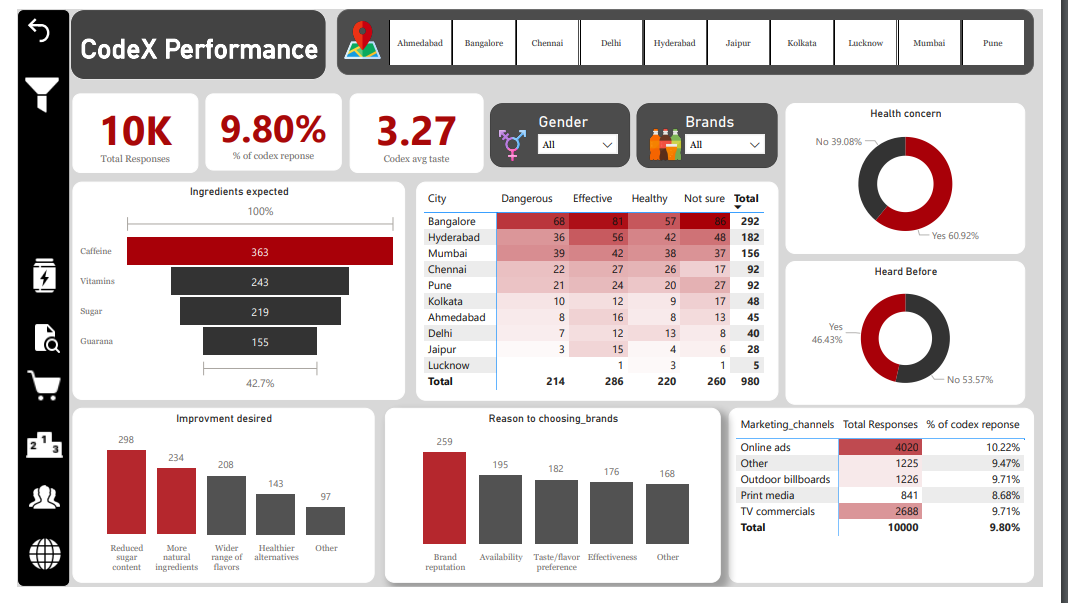

The dashboard page shown, as its layout file describes it:
{"tool":"powerbi","page":{"name":"Codex performance","canvas":[1280,720],"ordinal":1},"visuals":[{"type":"shape","box":[0,0,65.5,720.1],"z":0,"group":"g4"},{"type":"shape","box":[66.4,0,320,87.7],"z":0,"group":"g3"},{"type":"shape","box":[398.8,0,870.1,82.1],"z":0,"group":"g5"},{"type":"shape","box":[773.6,116.7,175.3,80.7],"z":0,"group":"g2"},{"type":"shape","box":[589.9,117,174.9,80.3],"z":0,"group":"g1"},{"type":"pivotTable","fields":{"Rows":["Survey_responses.Marketing_channels"],"Values":["Measure.Total Responses","Measure.% of codex reponse"]},"box":[887.9,497.1,381.2,218.4],"z":0},{"type":"actionButton","box":[7.2,6.2,57.6,39.7],"z":1000,"group":"g4"},{"type":"slicer","fields":{"Values":["CIties.City"]},"box":[437.6,7.2,842.5,68.8],"z":1000,"group":"g5"},{"type":"textbox","box":[74.7,25,320,51.5],"z":1000,"group":"g3"},{"type":"slicer","title":"Gender","fields":{"Values":["Survey_responses.Current_brands"]},"box":[824.2,146.1,119,76.1],"z":1000,"group":"g2"},{"type":"slicer","title":"Gender","fields":{"Values":["CIties.Tier","Repondents.Gender"]},"box":[640.3,146.2,118.7,75.7],"z":1000,"group":"g1"},{"type":"pivotTable","fields":{"Values":["Measure.Codex total responses"],"Rows":["CIties.City"],"Columns":["Survey_responses.General_perception"]},"box":[497.8,214.7,451.8,273.1],"z":1000},{"type":"image","box":[402.6,5.9,56.6,63.9],"z":2000,"group":"g5"},{"type":"textbox","box":[645.9,124.2,108.6,39.8],"z":2000,"group":"g1"},{"type":"image","box":[763.4,142.8,92,51.7],"z":2000,"group":"g2"},{"type":"columnChart","title":"Reason to choosing_brands","fields":{"Category":["Survey_responses.Reasons_for_choosing_brands"],"Y":["Measure.Codex total responses"]},"box":[459.3,496.5,418.3,218.5],"z":2000},{"type":"image","box":[1.6,653.9,65.1,50.7],"z":2000,"group":"g4"},{"type":"textbox","box":[829.8,124,108.8,40],"z":3000,"group":"g2"},{"type":"image","box":[594.2,140.8,47.3,57],"z":3000,"group":"g1"},{"type":"image","box":[4,305.2,60.3,54.3],"z":3000,"group":"g4"},{"type":"donutChart","title":"Heard Before","fields":{"Category":["Survey_responses.Heard_before"],"Y":["Measure.Codex total responses"]},"box":[958.6,314.4,299.1,178.1],"z":3000},{"type":"funnel","title":"Ingredients expected","fields":{"Category":["Survey_responses.Ingredients_expected"],"Y":["Measure.Codex total responses"]},"box":[68.8,214.7,415,272.7],"z":4000},{"type":"image","box":[4,442.8,60.3,54.3],"z":4000,"group":"g4"},{"type":"columnChart","title":"Improvment desired","fields":{"Y":["Measure.Codex total responses"],"Category":["Survey_responses.Improvements_desired"]},"box":[68.8,497.1,377.6,218.4],"z":5000},{"type":"image","box":[5.2,516.4,57.9,54.3],"z":5000,"group":"g4"},{"type":"donutChart","title":"Health concern","fields":{"Y":["Measure.Codex total responses"],"Category":["Survey_responses.Health_concerns"]},"box":[958.6,116.9,299.1,187.8],"z":6000},{"type":"image","box":[5.2,585.1,57.9,48.3],"z":6000,"group":"g4"},{"type":"group","id":"g1","title":"age slicer","box":[589.9,117,174.9,105],"z":7000},{"type":"image","box":[4,386.1,60.3,47.1],"z":7000,"group":"g4"},{"type":"image","box":[3,76.6,56.4,59.3],"z":8000,"group":"g4"},{"type":"group","id":"g2","title":"Brands slicer","box":[763.4,116.7,185,105.5],"z":8000},{"type":"group","id":"g3","title":"Header","box":[66.4,0,328.2,88.1],"z":9000},{"type":"group","id":"g4","title":"page navigation","box":[0,0,66.8,720.1],"z":10000},{"type":"group","id":"g5","title":"city","box":[398.8,0,881.3,82.1],"z":11000},{"type":"card","fields":{"Values":["Measure.Total Responses"]},"box":[68.8,105,156.8,98.9],"z":13000},{"type":"card","fields":{"Values":["Measure.% of codex reponse"]},"box":[235.3,105,170.1,96.5],"z":14000},{"type":"card","fields":{"Values":["Measure.Codex avg taste"]},"box":[415,105,166.5,98.9],"z":15000}]}

Visuals, with their boxes on the page's 1280x720 design canvas (x1, y1, x2, y2). These are canvas units, not pixel positions in the 1068x603 screenshot, which may show the page scaled, cropped or inside an application window:
shape: {"left": 0, "top": 0, "right": 66, "bottom": 720}
shape: {"left": 66, "top": 0, "right": 386, "bottom": 88}
shape: {"left": 399, "top": 0, "right": 1269, "bottom": 82}
shape: {"left": 774, "top": 117, "right": 949, "bottom": 197}
shape: {"left": 590, "top": 117, "right": 765, "bottom": 197}
pivotTable - Survey_responses.Marketing_channels x Measure.Total Responses: {"left": 888, "top": 497, "right": 1269, "bottom": 716}
actionButton: {"left": 7, "top": 6, "right": 65, "bottom": 46}
slicer - CIties.City: {"left": 438, "top": 7, "right": 1280, "bottom": 76}
textbox: {"left": 75, "top": 25, "right": 395, "bottom": 76}
"Gender" slicer: {"left": 824, "top": 146, "right": 943, "bottom": 222}
"Gender" slicer: {"left": 640, "top": 146, "right": 759, "bottom": 222}
pivotTable - Measure.Codex total responses x CIties.City: {"left": 498, "top": 215, "right": 950, "bottom": 488}
image: {"left": 403, "top": 6, "right": 459, "bottom": 70}
textbox: {"left": 646, "top": 124, "right": 754, "bottom": 164}
image: {"left": 763, "top": 143, "right": 855, "bottom": 194}
"Reason to choosing_brands" columnChart: {"left": 459, "top": 496, "right": 878, "bottom": 715}
image: {"left": 2, "top": 654, "right": 67, "bottom": 705}
textbox: {"left": 830, "top": 124, "right": 939, "bottom": 164}
image: {"left": 594, "top": 141, "right": 642, "bottom": 198}
image: {"left": 4, "top": 305, "right": 64, "bottom": 360}
"Heard Before" donutChart: {"left": 959, "top": 314, "right": 1258, "bottom": 492}
"Ingredients expected" funnel: {"left": 69, "top": 215, "right": 484, "bottom": 487}
image: {"left": 4, "top": 443, "right": 64, "bottom": 497}
"Improvment desired" columnChart: {"left": 69, "top": 497, "right": 446, "bottom": 716}
image: {"left": 5, "top": 516, "right": 63, "bottom": 571}
"Health concern" donutChart: {"left": 959, "top": 117, "right": 1258, "bottom": 305}
image: {"left": 5, "top": 585, "right": 63, "bottom": 633}
"age slicer" group: {"left": 590, "top": 117, "right": 765, "bottom": 222}
image: {"left": 4, "top": 386, "right": 64, "bottom": 433}
image: {"left": 3, "top": 77, "right": 59, "bottom": 136}
"Brands slicer" group: {"left": 763, "top": 117, "right": 948, "bottom": 222}
"Header" group: {"left": 66, "top": 0, "right": 395, "bottom": 88}
"page navigation" group: {"left": 0, "top": 0, "right": 67, "bottom": 720}
"city" group: {"left": 399, "top": 0, "right": 1280, "bottom": 82}
card - Measure.Total Responses: {"left": 69, "top": 105, "right": 226, "bottom": 204}
card - Measure.% of codex reponse: {"left": 235, "top": 105, "right": 405, "bottom": 202}
card - Measure.Codex avg taste: {"left": 415, "top": 105, "right": 582, "bottom": 204}
